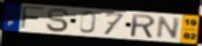0: (80, 11, 98, 34)
7: (103, 11, 125, 36)
F: (20, 5, 46, 31)
N: (155, 15, 183, 40)
R: (131, 13, 157, 39)
S: (45, 8, 71, 33)
